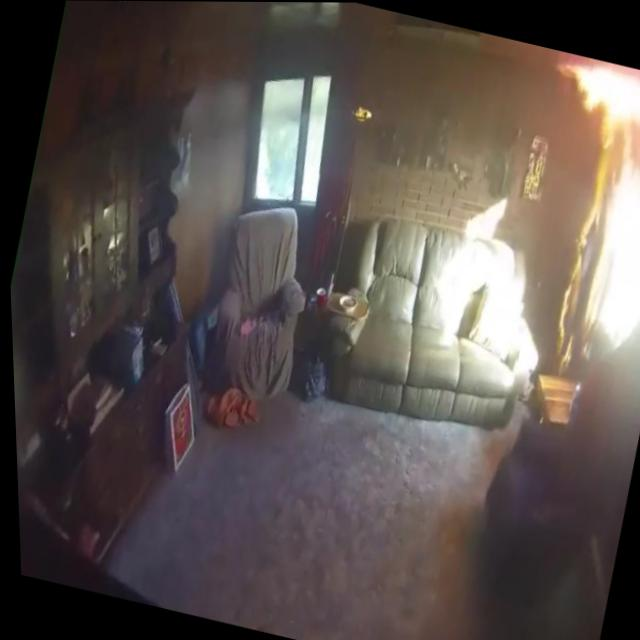fire: (531, 126, 625, 377), (549, 50, 640, 138)
